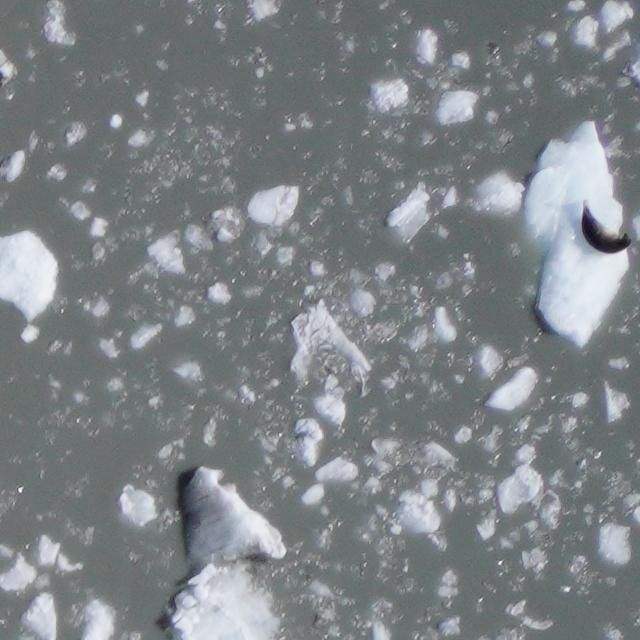seal: (564, 199, 634, 266)
